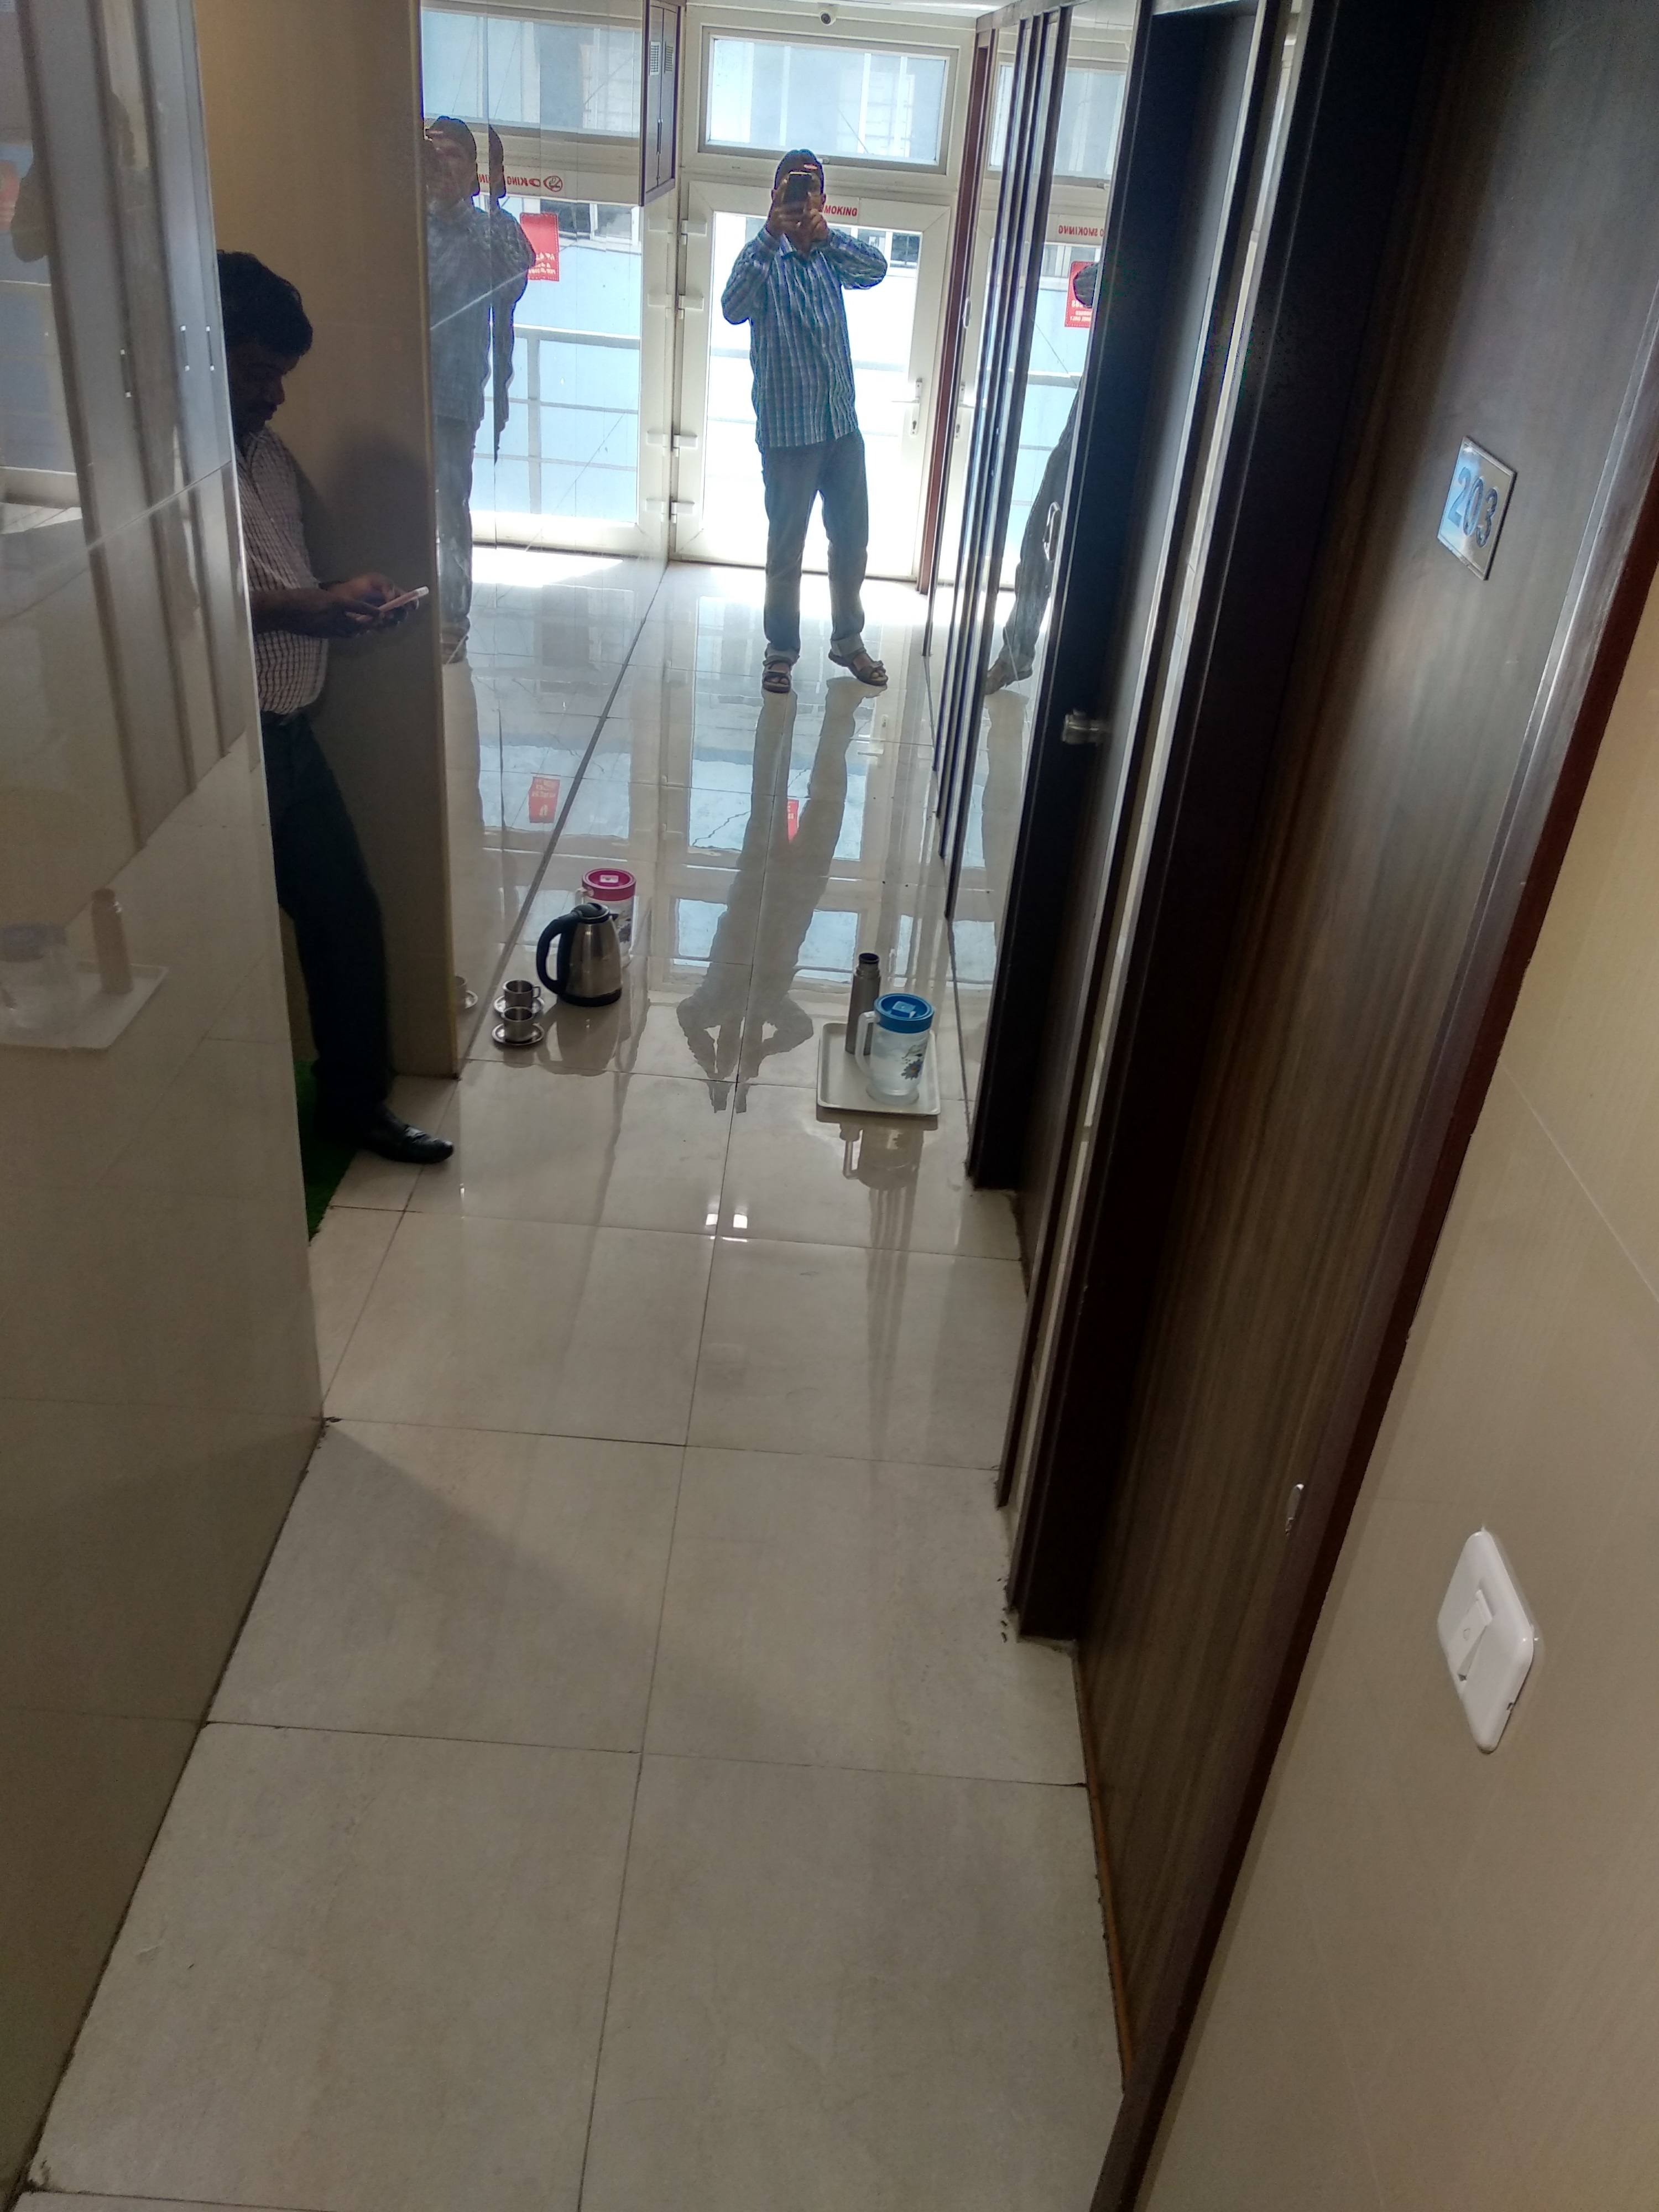CUP: (490, 1007, 547, 1050), (495, 972, 544, 1005)
FLASK: (838, 942, 882, 1055)
JUG: (856, 984, 943, 1113), (535, 894, 633, 1007), (570, 859, 647, 897)
